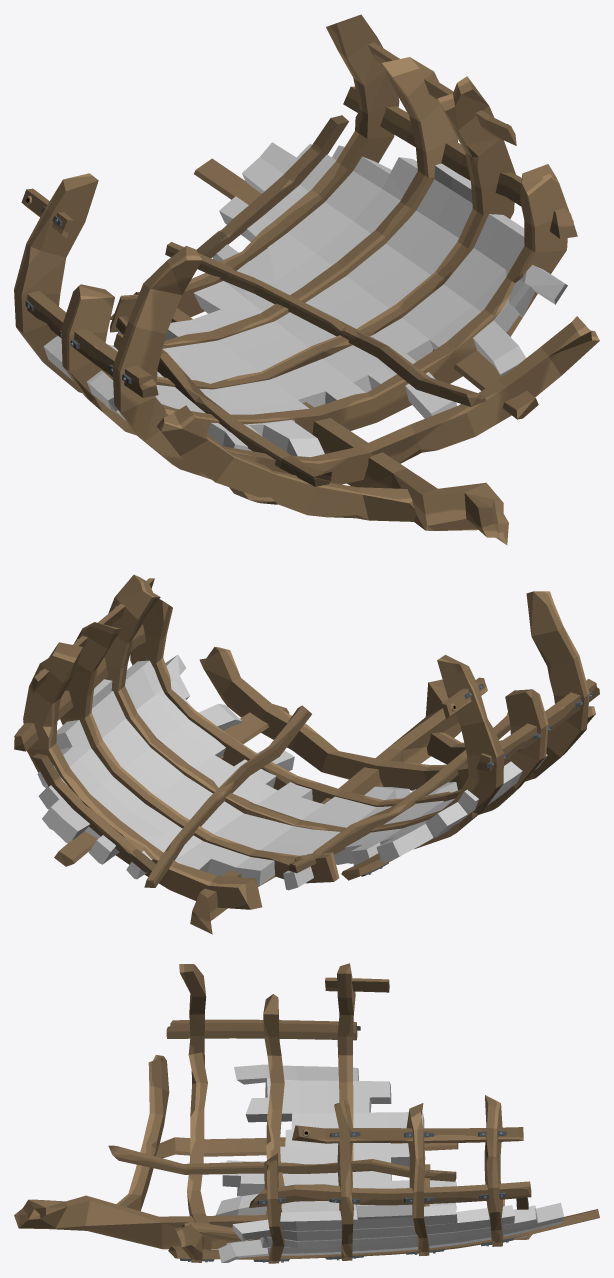
File: SM_Prop_Wreck_Large_Chunk_01.fbx
3 renders of one model, top to bottom at view 1: azimuth 30°, elevation 25°; view 2: azimuth 150°, elevation 25°; view 3: azimuth 270°, elevation 25°, orthographic. The views are drawn at different scales.
Visible parts, largest first — view 1: SM_Prop_Wreck_Large_Chunk_01; view 2: SM_Prop_Wreck_Large_Chunk_01; view 3: SM_Prop_Wreck_Large_Chunk_01.
Part boxes in pixels (<box>): SM_Prop_Wreck_Large_Chunk_01: <box>14,14,599,544</box>; SM_Prop_Wreck_Large_Chunk_01: <box>14,574,599,934</box>; SM_Prop_Wreck_Large_Chunk_01: <box>14,963,599,1263</box>.
Size of the model in its own units: 1332 by 752 by 1836.
